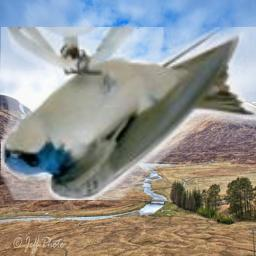Swallow: (1, 27, 256, 200)
